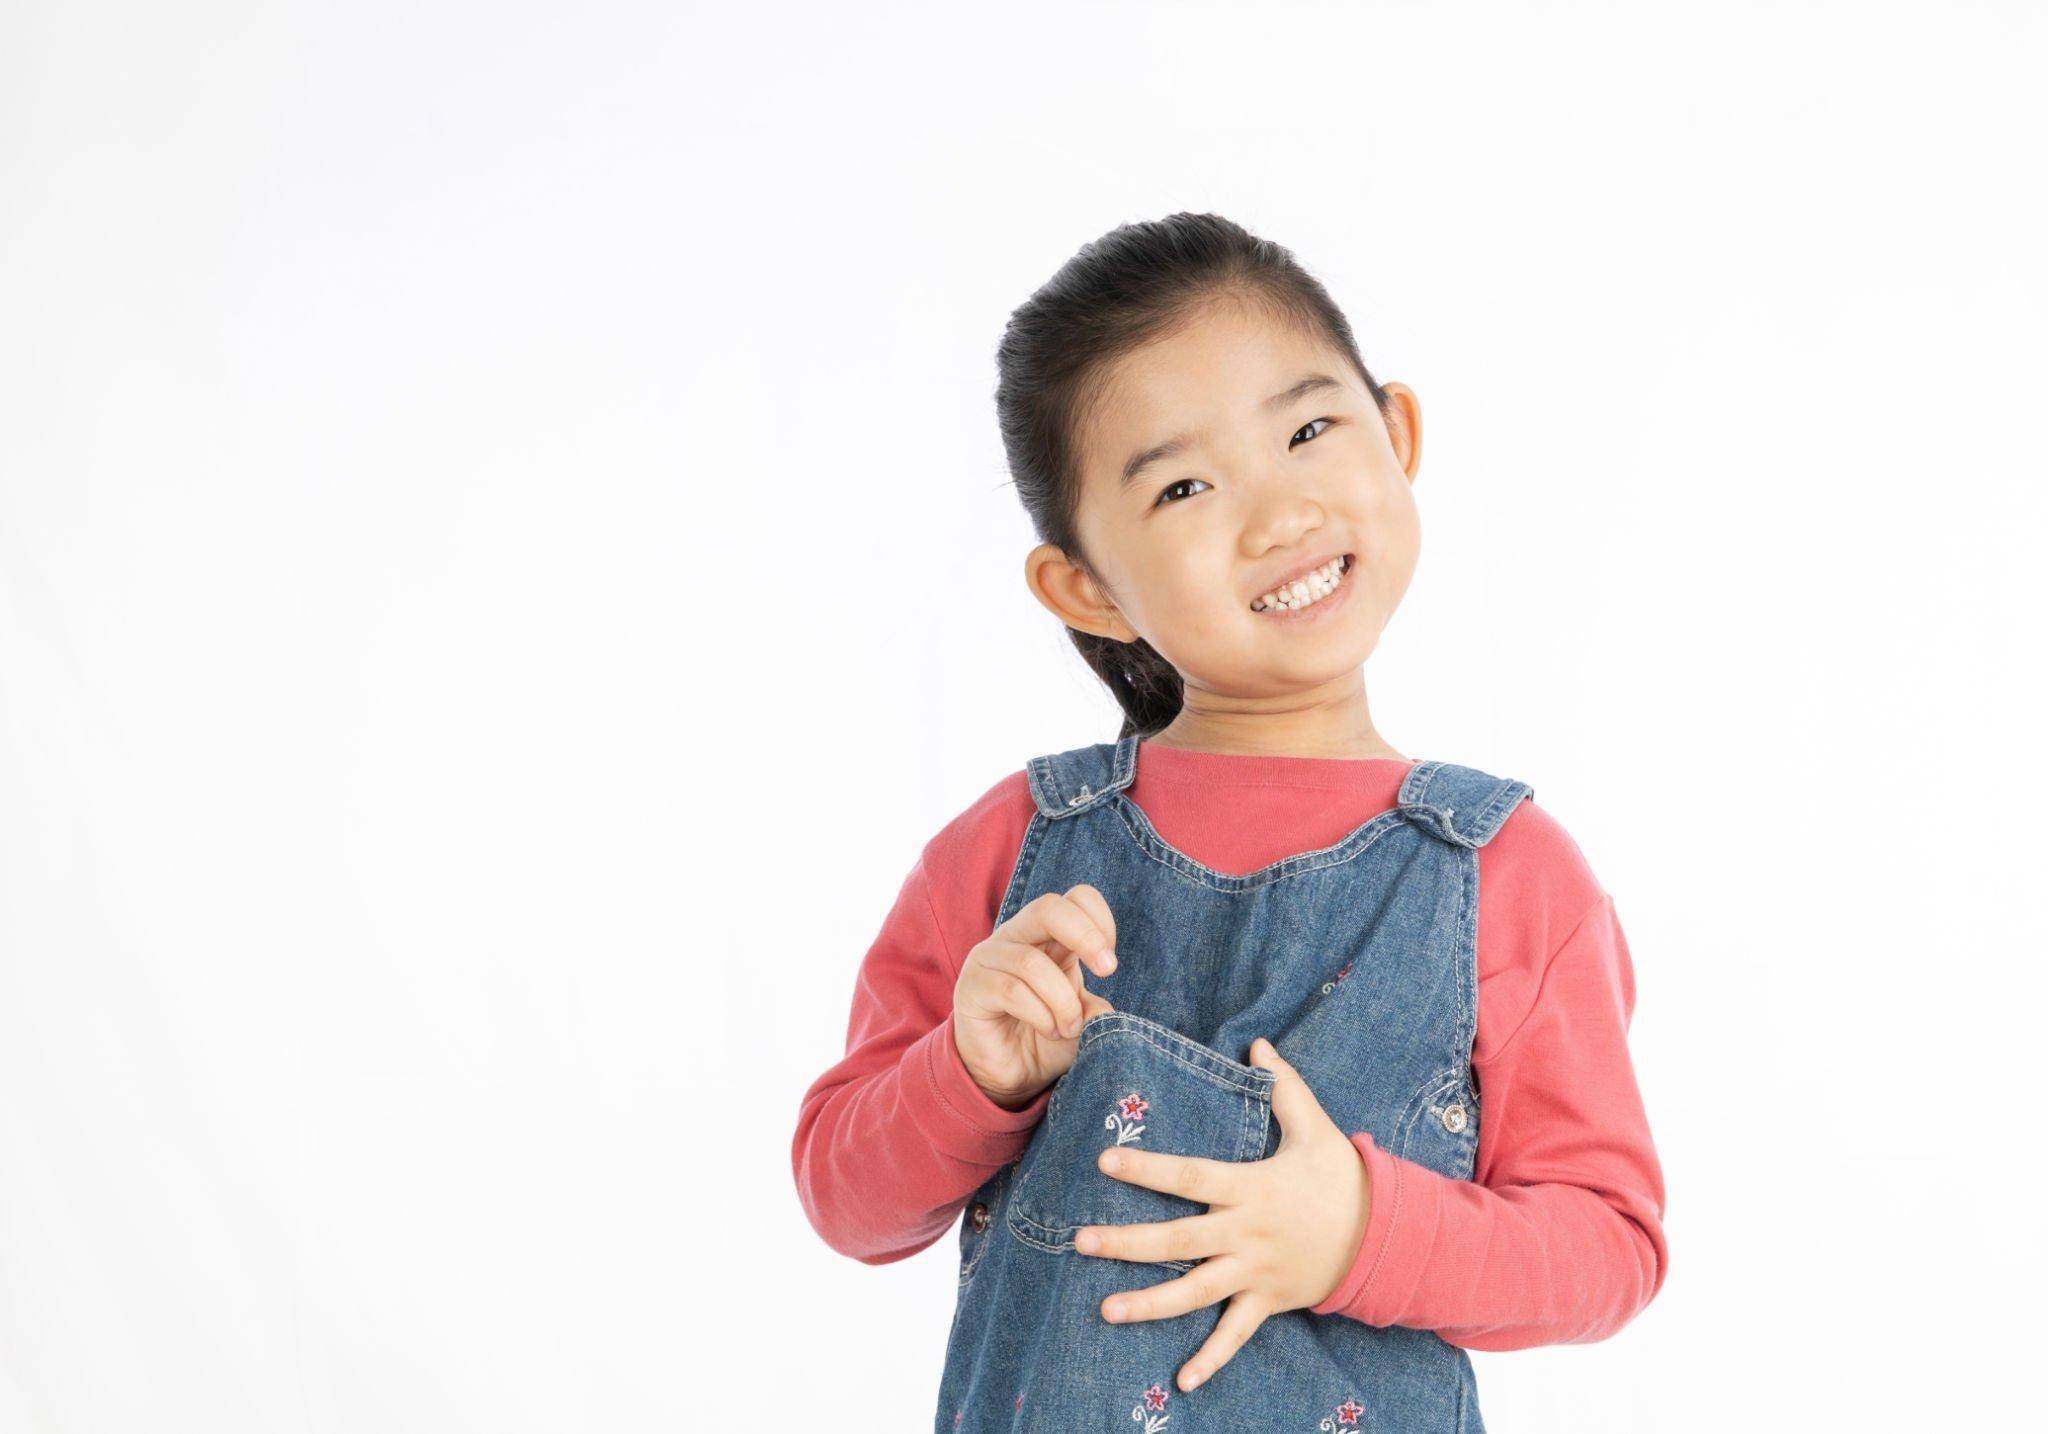Healthy: (977, 196, 1475, 750)
